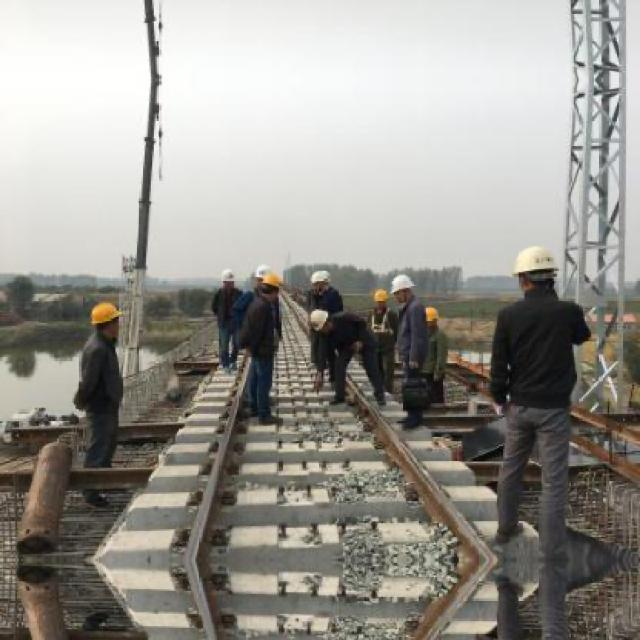con casco: (490, 235, 591, 324), (292, 298, 364, 349), (81, 296, 139, 349), (242, 264, 301, 309), (400, 270, 437, 315), (374, 285, 409, 319)
